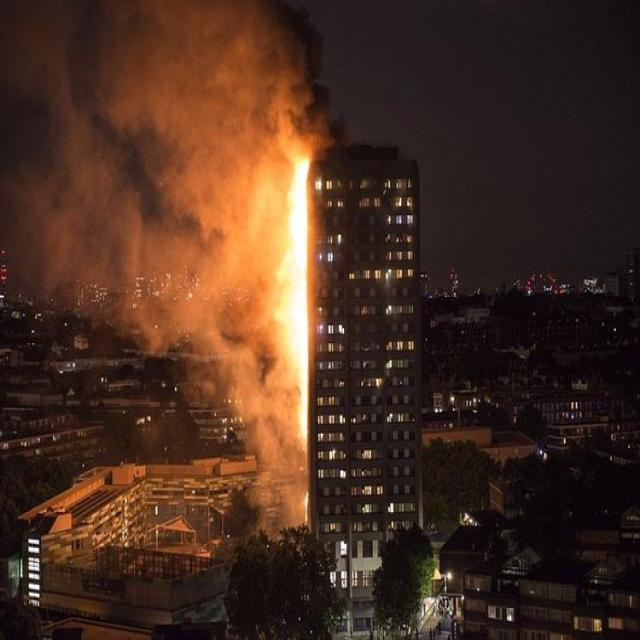Fire: (277, 154, 310, 456)
Smoke: (0, 0, 269, 422), (270, 3, 336, 150)
